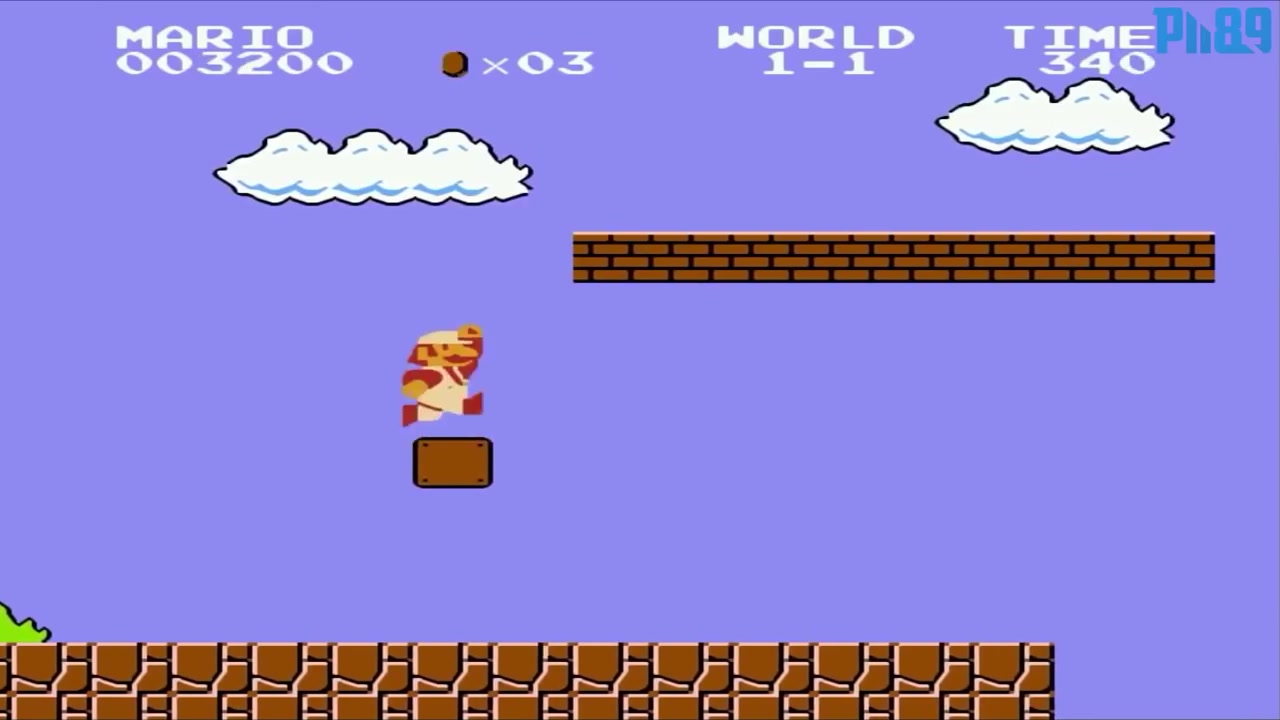mario: (391, 322, 498, 431)
